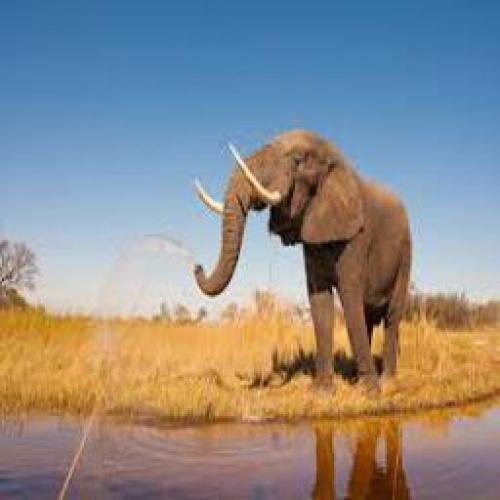african_elephant-endangered: (202, 134, 406, 392)
